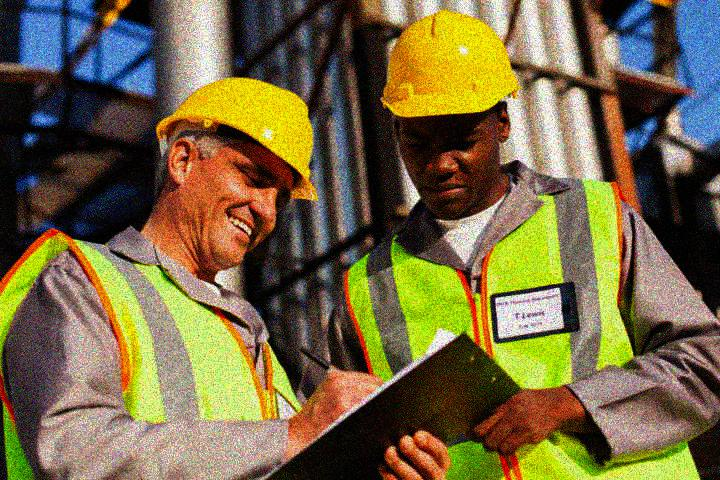helmet: (155, 74, 320, 271), (377, 10, 518, 209)
